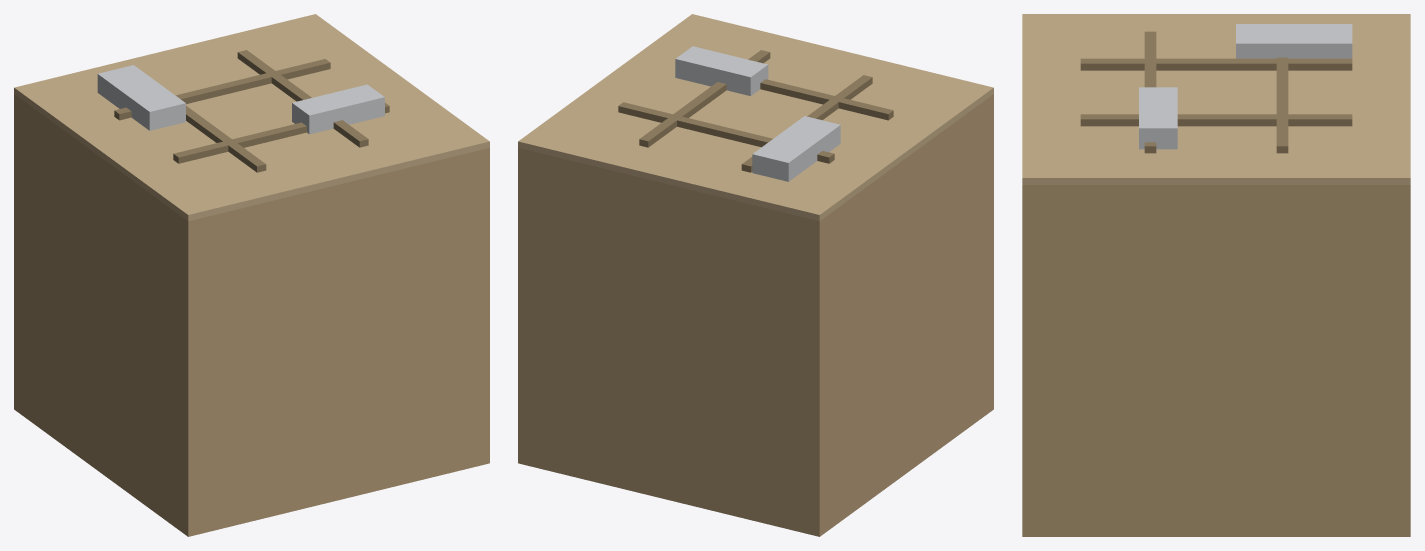
File: Workbench.glb
3 views of the same model, side by side, from view 1: azimuth 30°, elevation 25°; view 2: azimuth 150°, elevation 25°; view 3: azimuth 270°, elevation 25° (orthographic). The views are drawn at different scales.
Visible parts, largest first — view 1: Workbench; view 2: Workbench; view 3: Workbench.
Boxes of the visible parts, x1,y1,x2,y2 form: Workbench: (14, 14, 489, 536); Workbench: (518, 14, 993, 536); Workbench: (1022, 14, 1410, 536).
Bounding box in the file's own units: 1 × 1.08 × 1.
